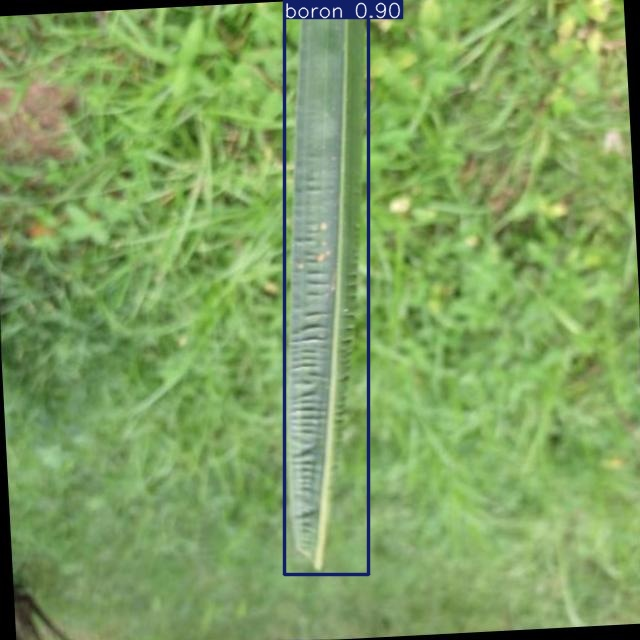nitrogen: (284, 0, 369, 574)
